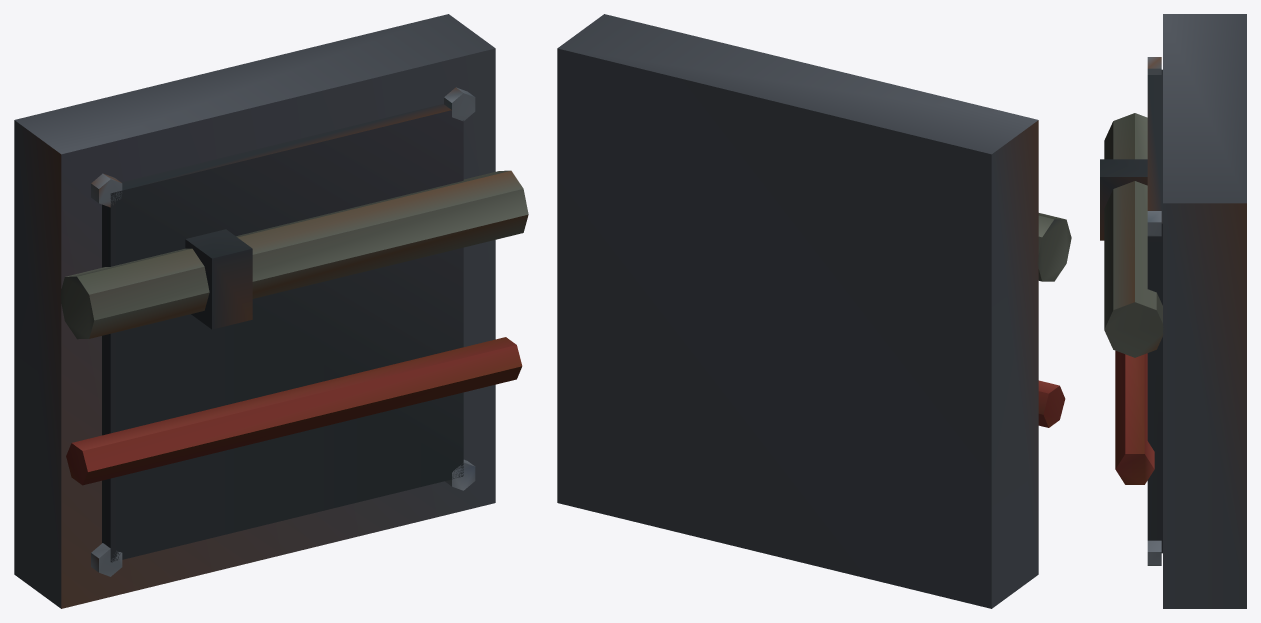
File: tile_wall_pipes.glb
The picture shows the model from 3 angles, left to right: view 1: azimuth 30°, elevation 25°; view 2: azimuth 150°, elevation 25°; view 3: azimuth 270°, elevation 25°; orthographic projection. The views are drawn at different scales.
Parts seen in each view (by area): view 1: tile_wall_pipes; view 2: tile_wall_pipes; view 3: tile_wall_pipes.
Boxes of the visible parts, left/top/right/bottom form: tile_wall_pipes: left=14, top=14, right=528, bottom=608; tile_wall_pipes: left=557, top=14, right=1071, bottom=608; tile_wall_pipes: left=1100, top=14, right=1246, bottom=608.
Bounding box in the file's own units: 32 × 32 × 10.5.
